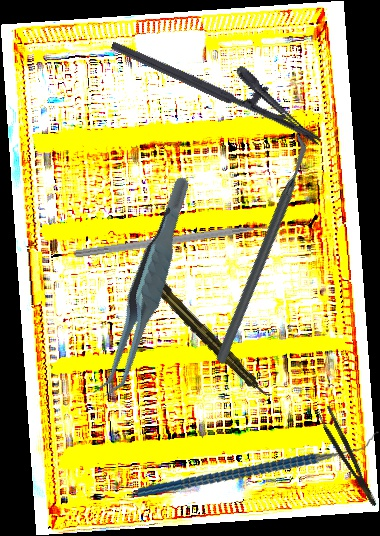Chopper: (142, 129, 379, 367), (137, 399, 379, 529), (73, 220, 286, 270)
Handpiece: (142, 268, 274, 405)
Needle Holder: (109, 11, 336, 148)
Tissue Forceps: (56, 173, 235, 405), (315, 405, 379, 511)
